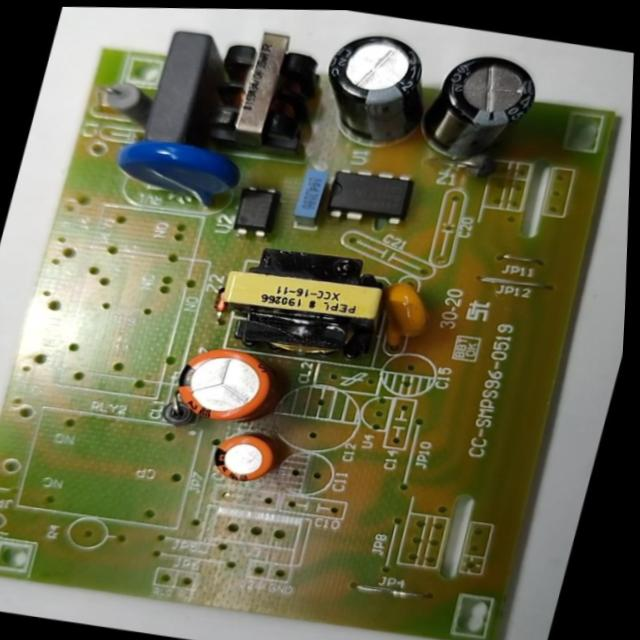Cap1: (164, 335, 290, 431)
Cap2: (202, 427, 288, 489)
Cap3: (303, 22, 447, 155)
Cap4: (412, 44, 549, 176)
MOSFET: (319, 158, 427, 234)
Mov: (107, 130, 250, 218)
Resistor: (91, 70, 159, 130)
Transformer: (205, 234, 405, 371), (197, 20, 337, 162)
